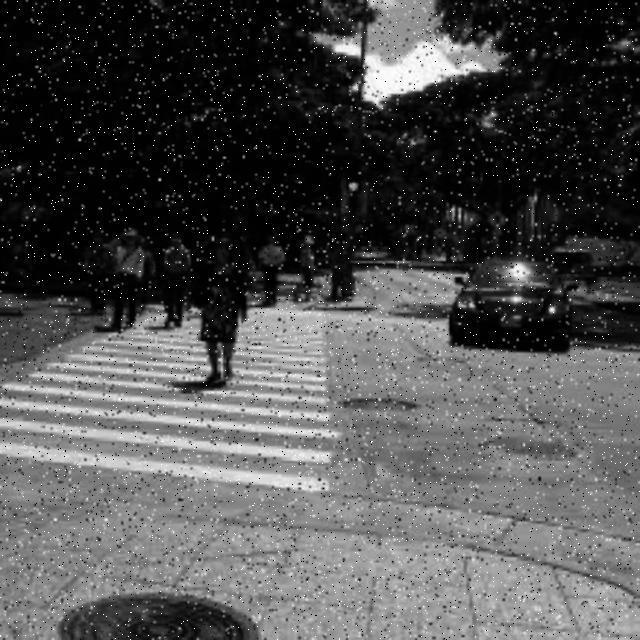Pedestrian crosswalk: (12, 288, 346, 508)
